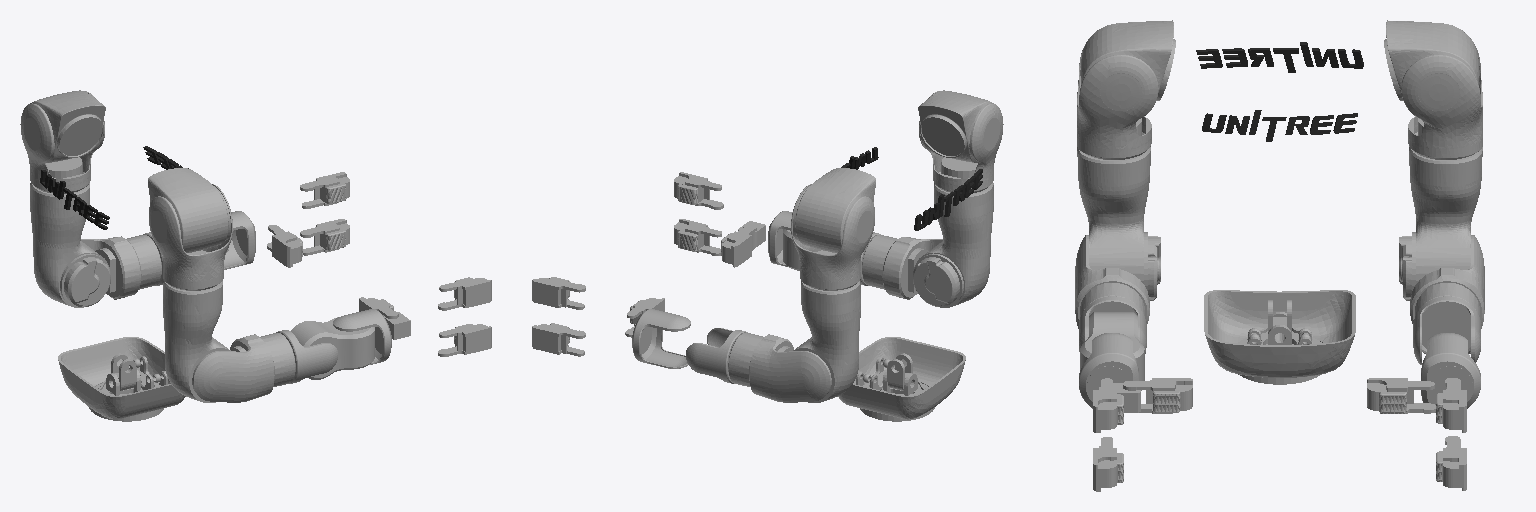
--- What the picture shows (computed from the rendered views, not written in the file) ---
The picture shows the robot from 3 angles, left to right: view 1: azimuth 30°, elevation 25°; view 2: azimuth 150°, elevation 25°; view 3: azimuth 270°, elevation 25°; orthographic projection.
Robot: g1_29dof_with_hand — 41 links, 40 joints (31 revolute, 9 fixed); root link pelvis; default pose: all joints at 0.
Links seen in each view (by area): view 1: left_shoulder_yaw_link, waist_support_link, right_elbow_link, right_shoulder_yaw_link, right_shoulder_pitch_link, right_shoulder_roll_link, left_shoulder_pitch_link, left_elbow_link, left_shoulder_roll_link, right_wrist_pitch_link, right_wrist_roll_link, logo_link (+9 smaller); view 2: right_shoulder_yaw_link, waist_support_link, left_elbow_link, left_shoulder_yaw_link, left_shoulder_pitch_link, left_shoulder_roll_link, right_shoulder_pitch_link, right_shoulder_roll_link, right_elbow_link, left_wrist_yaw_link, left_wrist_roll_link, logo_link (+9 smaller); view 3: waist_support_link, left_shoulder_yaw_link, right_shoulder_yaw_link, left_shoulder_roll_link, right_shoulder_roll_link, logo_link, left_shoulder_pitch_link, right_shoulder_pitch_link, left_wrist_yaw_link, left_wrist_roll_link, left_elbow_link, right_elbow_link (+10 smaller).
Boxes of the visible links, x1,y1,x2,y2 form: left_shoulder_yaw_link: [30, 183, 110, 307]; waist_support_link: [58, 337, 185, 418]; right_elbow_link: [192, 333, 295, 402]; right_shoulder_yaw_link: [163, 281, 230, 402]; right_shoulder_pitch_link: [148, 168, 228, 252]; right_shoulder_roll_link: [149, 184, 232, 290]; left_shoulder_pitch_link: [30, 90, 105, 162]; left_elbow_link: [81, 235, 161, 299]; left_shoulder_roll_link: [20, 91, 104, 193]; right_wrist_pitch_link: [291, 317, 374, 379]; right_wrist_roll_link: [276, 330, 337, 383]; logo_link: [40, 146, 188, 229]; right_shoulder_yaw_link: [913, 183, 993, 307]; waist_support_link: [838, 337, 965, 419]; left_elbow_link: [728, 333, 831, 402]; left_shoulder_yaw_link: [793, 281, 860, 402]; left_shoulder_pitch_link: [795, 168, 875, 252]; left_shoulder_roll_link: [791, 184, 874, 290]; right_shoulder_pitch_link: [918, 90, 993, 162]; right_shoulder_roll_link: [919, 91, 1003, 192]; right_elbow_link: [862, 235, 942, 299]; left_wrist_yaw_link: [632, 309, 690, 368]; left_wrist_roll_link: [686, 328, 747, 383]; logo_link: [841, 147, 982, 230]; waist_support_link: [1204, 290, 1355, 377]; left_shoulder_yaw_link: [1399, 147, 1482, 300]; right_shoulder_yaw_link: [1077, 147, 1160, 300]; left_shoulder_roll_link: [1401, 23, 1482, 159]; right_shoulder_roll_link: [1077, 23, 1158, 159]; logo_link: [1196, 42, 1363, 141]; left_shoulder_pitch_link: [1384, 20, 1479, 115]; right_shoulder_pitch_link: [1080, 20, 1175, 115]; left_wrist_yaw_link: [1421, 333, 1480, 412]; left_wrist_roll_link: [1413, 296, 1480, 364]; left_elbow_link: [1410, 235, 1484, 328]; right_elbow_link: [1075, 235, 1149, 328].
Size in the robot's own frame: 0.4464 by 0.3632 by 0.3314 metres.
24 mesh visuals loaded from 38 distinct referenced files (24 OBJ); not drawn: 14 (reference not matched to a file when rendering).

URDF robot description (g1_29dof_with_hand):
<robot name="g1_29dof_with_hand">
  <mujoco>
    <compiler meshdir="meshes" discardvisual="false"/>
  </mujoco>

  <!-- [CAUTION] uncomment when convert to mujoco -->
  <!-- <link name="world"></link>
  <joint name="floating_base_joint" type="floating">
    <parent link="world"/>
    <child link="pelvis"/>
  </joint> -->

  <link name="pelvis">
    <inertial>
      <origin xyz="0 0 -0.07605" rpy="0 0 0"/>
      <mass value="3.813"/>
      <inertia ixx="0.010549" ixy="0" ixz="2.1E-06" iyy="0.0093089" iyz="0" izz="0.0079184"/>
    </inertial>
    <visual>
      <origin xyz="0 0 0" rpy="0 0 0"/>
      <geometry>
        <mesh filename="meshes/pelvis.obj"/>
      </geometry>
      <material name="dark">
        <color rgba="0.2 0.2 0.2 1"/>
      </material>
    </visual>
  </link>
  <link name="pelvis_contour_link">
    <inertial>
      <origin xyz="0 0 0" rpy="0 0 0"/>
      <mass value="0.001"/>
      <inertia ixx="1e-7" ixy="0" ixz="0" iyy="1e-7" iyz="0" izz="1e-7"/>
    </inertial>
    <visual>
      <origin xyz="0 0 0" rpy="0 0 0"/>
      <geometry>
        <mesh filename="meshes/pelvis_contour_link.obj"/>
      </geometry>
      <material name="white">
        <color rgba="0.7 0.7 0.7 1"/>
      </material>
    </visual>
    <collision>
      <origin xyz="0 0 0" rpy="0 0 0"/>
      <geometry>
        <mesh filename="meshes/pelvis_contour_link.obj"/>
      </geometry>
    </collision>
  </link>
  <joint name="pelvis_contour_joint" type="fixed">
    <parent link="pelvis"/>
    <child link="pelvis_contour_link"/>
  </joint>

  <!-- Legs -->
  <!-- <link name="left_hip_pitch_link">
    <inertial>
      <origin xyz="0.002741 0.047791 -0.02606" rpy="0 0 0"/>
      <mass value="1.35"/>
      <inertia ixx="0.001811" ixy="3.68E-05" ixz="-3.44E-05" iyy="0.0014193" iyz="0.000171" izz="0.0012812"/>
    </inertial>
    <visual>
      <origin xyz="0 0 0" rpy="0 0 0"/>
      <geometry>
        <mesh filename="meshes/left_hip_pitch_link.obj"/>
      </geometry>
      <material name="dark">
        <color rgba="0.2 0.2 0.2 1"/>
      </material>
    </visual>
    <collision>
      <origin xyz="0 0 0" rpy="0 0 0"/>
      <geometry>
        <mesh filename="meshes/left_hip_pitch_link.obj"/>
      </geometry>
    </collision>
  </link>
  <joint name="left_hip_pitch_joint" type="revolute">
    <origin xyz="0 0.064452 -0.1027" rpy="0 0 0"/>
    <parent link="pelvis"/>
    <child link="left_hip_pitch_link"/>
    <axis xyz="0 1 0"/>
    <limit lower="-2.5307" upper="2.8798" effort="88" velocity="32"/>
  </joint>
  <link name="left_hip_roll_link">
    <inertial>
      <origin xyz="0.029812 -0.001045 -0.087934" rpy="0 0 0"/>
      <mass value="1.52"/>
      <inertia ixx="0.0023773" ixy="-3.8E-06" ixz="-0.0003908" iyy="0.0024123" iyz="1.84E-05" izz="0.0016595"/>
    </inertial>
    <visual>
      <origin xyz="0 0 0" rpy="0 0 0"/>
      <geometry>
        <mesh filename="meshes/left_hip_roll_link.obj"/>
      </geometry>
      <material name="white">
        <color rgba="0.7 0.7 0.7 1"/>
      </material>
    </visual>
    <collision>
      <origin xyz="0 0 0" rpy="0 0 0"/>
      <geometry>
        <mesh filename="meshes/left_hip_roll_link.obj"/>
      </geometry>
    </collision>
  </link>
  <joint name="left_hip_roll_joint" type="revolute">
    <origin xyz="0 0.052 -0.030465" rpy="0 -0.1749 0"/>
    <parent link="left_hip_pitch_link"/>
    <child link="left_hip_roll_link"/>
    <axis xyz="1 0 0"/>
    <limit lower="-0.5236" upper="2.9671" effort="88" velocity="32"/>
  </joint>
  <link name="left_hip_yaw_link">
    <inertial>
      <origin xyz="-0.057709 -0.010981 -0.15078" rpy="0 0 0"/>
      <mass value="1.702"/>
      <inertia ixx="0.0057774" ixy="-0.0005411" ixz="-0.0023948" iyy="0.0076124" iyz="-0.0007072" izz="0.003149"/>
    </inertial>
    <visual>
      <origin xyz="0 0 0" rpy="0 0 0"/>
      <geometry>
        <mesh filename="meshes/left_hip_yaw_link.obj"/>
      </geometry>
      <material name="white">
        <color rgba="0.7 0.7 0.7 1"/>
      </material>
    </visual>
    <collision>
      <origin xyz="0 0 0" rpy="0 0 0"/>
      <geometry>
        <mesh filename="meshes/left_hip_yaw_link.obj"/>
      </geometry>
    </collision>
  </link>
  <joint name="left_hip_yaw_joint" type="revolute">
    <origin xyz="0.025001 0 -0.12412" rpy="0 0 0"/>
    <parent link="left_hip_roll_link"/>
    <child link="left_hip_yaw_link"/>
    <axis xyz="0 0 1"/>
    <limit lower="-2.7576" upper="2.7576" effort="88" velocity="32"/>
  </joint>
  <link name="left_knee_link">
    <inertial>
      <origin xyz="0.005457 0.003964 -0.12074" rpy="0 0 0"/>
      <mass value="1.932"/>
      <inertia ixx="0.011329" ixy="4.82E-05" ixz="-4.49E-05" iyy="0.011277" iyz="-0.0007146" izz="0.0015168"/>
    </inertial>
    <visual>
      <origin xyz="0 0 0" rpy="0 0 0"/>
      <geometry>
        <mesh filename="meshes/left_knee_link.obj"/>
      </geometry>
      <material name="white">
        <color rgba="0.7 0.7 0.7 1"/>
      </material>
    </visual>
    <collision>
      <origin xyz="0 0 0" rpy="0 0 0"/>
      <geometry>
        <mesh filename="meshes/left_knee_link.obj"/>
      </geometry>
    </collision>
  </link>
  <joint name="left_knee_joint" type="revolute">
    <origin xyz="-0.078273 0.0021489 -0.17734" rpy="0 0.1749 0"/>
    <parent link="left_hip_yaw_link"/>
    <child link="left_knee_link"/>
    <axis xyz="0 1 0"/>
    <limit lower="-0.087267" upper="2.8798" effort="139" velocity="20"/>
  </joint>
  <link name="left_ankle_pitch_link">
    <inertial>
      <origin xyz="-0.007269 0 0.011137" rpy="0 0 0"/>
      <mass value="0.074"/>
      <inertia ixx="8.4E-06" ixy="0" ixz="-2.9E-06" iyy="1.89E-05" iyz="0" izz="1.26E-05"/>
    </inertial>
    <visual>
      <origin xyz="0 0 0" rpy="0 0 0"/>
      <geometry>
        <mesh filename="meshes/left_ankle_pitch_link.obj"/>
      </geometry>
      <material name="white">
        <color rgba="0.7 0.7 0.7 1"/>
      </material>
    </visual>
    <collision>
      <origin xyz="0 0 0" rpy="0 0 0"/>
      <geometry>
        <mesh filename="meshes/left_ankle_pitch_link.obj"/>
      </geometry>
    </collision>
  </link>
  <joint name="left_ankle_pitch_joint" type="revolute">
    <origin xyz="0 -9.4445E-05 -0.30001" rpy="0 0 0"/>
    <parent link="left_knee_link"/>
    <child link="left_ankle_pitch_link"/>
    <axis xyz="0 1 0"/>
    <limit lower="-0.87267" upper="0.5236" effort="50" velocity="37"/>
  </joint>
  <link name="left_ankle_roll_link">
    <inertial>
      <origin xyz="0.026505 0 -0.016425" rpy="0 0 0"/>
      <mass value="0.608"/>
      <inertia ixx="0.0002231" ixy="2E-07" ixz="8.91E-05" iyy="0.0016161" iyz="-1E-07" izz="0.0016667"/>
    </inertial>
    <visual>
      <origin xyz="0 0 0" rpy="0 0 0"/>
      <geometry>
        <mesh filename="meshes/left_ankle_roll_link.obj"/>
      </geometry>
      <material name="dark">
        <color rgba="0.2 0.2 0.2 1"/>
      </material>
    </visual>
    <collision>
      <origin xyz="-0.05 0.025 -0.03" rpy="0 0 0"/>
      <geometry>
        <sphere radius="0.005"/>
      </geometry>
    </collision>
    <collision>
      <origin xyz="-0.05 -0.025 -0.03" rpy="0 0 0"/>
      <geometry>
        <sphere radius="0.005"/>
      </geometry>
    </collision>
    <collision>
      <origin xyz="0.12 0.03 -0.03" rpy="0 0 0"/>
      <geometry>
        <sphere radius="0.005"/>
      </geometry>
    </collision>
    <collision>
      <origin xyz="0.12 -0.03 -0.03" rpy="0 0 0"/>
      <geometry>
        <sphere radius="0.005"/>
      </geometry>
    </collision>
  </link>
  <joint name="left_ankle_roll_joint" type="revolute">
    <origin xyz="0 0 -0.017558" rpy="0 0 0"/>
    <parent link="left_ankle_pitch_link"/>
    <child link="left_ankle_roll_link"/>
    <axis xyz="1 0 0"/>
    <limit lower="-0.2618" upper="0.2618" effort="50" velocity="37"/>
  </joint>
  <link name="right_hip_pitch_link">
    <inertial>
      <origin xyz="0.002741 -0.047791 -0.02606" rpy="0 0 0"/>
      <mass value="1.35"/>
      <inertia ixx="0.001811" ixy="-3.68E-05" ixz="-3.44E-05" iyy="0.0014193" iyz="-0.000171" izz="0.0012812"/>
    </inertial>
    <visual>
      <origin xyz="0 0 0" rpy="0 0 0"/>
      <geometry>
        <mesh filename="meshes/right_hip_pitch_link.obj"/>
      </geometry>
      <material name="dark">
        <color rgba="0.2 0.2 0.2 1"/>
      </material>
    </visual>
    <collision>
      <origin xyz="0 0 0" rpy="0 0 0"/>
      <geometry>
        <mesh filename="meshes/right_hip_pitch_link.obj"/>
      </geometry>
    </collision>
  </link>
  <joint name="right_hip_pitch_joint" type="revolute">
    <origin xyz="0 -0.064452 -0.1027" rpy="0 0 0"/>
    <parent link="pelvis"/>
    <child link="right_hip_pitch_link"/>
    <axis xyz="0 1 0"/>
    <limit lower="-2.5307" upper="2.8798" effort="88" velocity="32"/>
  </joint>
  <link name="right_hip_roll_link">
    <inertial>
      <origin xyz="0.029812 0.001045 -0.087934" rpy="0 0 0"/>
      <mass value="1.52"/>
      <inertia ixx="0.0023773" ixy="3.8E-06" ixz="-0.0003908" iyy="0.0024123" iyz="-1.84E-05" izz="0.0016595"/>
    </inertial>
    <visual>
      <origin xyz="0 0 0" rpy="0 0 0"/>
      <geometry>
        <mesh filename="meshes/right_hip_roll_link.obj"/>
      </geometry>
      <material name="white">
        <color rgba="0.7 0.7 0.7 1"/>
      </material>
    </visual>
    <collision>
      <origin xyz="0 0 0" rpy="0 0 0"/>
      <geometry>
        <mesh filename="meshes/right_hip_roll_link.obj"/>
      </geometry>
    </collision>
  </link>
  <joint name="right_hip_roll_joint" type="revolute">
    <origin xyz="0 -0.052 -0.030465" rpy="0 -0.1749 0"/>
    <parent link="right_hip_pitch_link"/>
    <child link="right_hip_roll_link"/>
    <axis xyz="1 0 0"/>
    <limit lower="-2.9671" upper="0.5236" effort="88" velocity="32"/>
  </joint>
  <link name="right_hip_yaw_link">
    <inertial>
      <origin xyz="-0.057709 0.010981 -0.15078" rpy="0 0 0"/>
      <mass value="1.702"/>
      <inertia ixx="0.0057774" ixy="0.0005411" ixz="-0.0023948" iyy="0.0076124" iyz="0.0007072" izz="0.003149"/>
    </inertial>
    <visual>
      <origin xyz="0 0 0" rpy="0 0 0"/>
      <geometry>
        <mesh filename="meshes/right_hip_yaw_link.obj"/>
      </geometry>
      <material name="white">
        <color rgba="0.7 0.7 0.7 1"/>
      </material>
    </visual>
    <collision>
      <origin xyz="0 0 0" rpy="0 0 0"/>
      <geometry>
        <mesh filename="meshes/right_hip_yaw_link.obj"/>
      </geometry>
    </collision>
  </link>
  <joint name="right_hip_yaw_joint" type="revolute">
    <origin xyz="0.025001 0 -0.12412" rpy="0 0 0"/>
    <parent link="right_hip_roll_link"/>
    <child link="right_hip_yaw_link"/>
    <axis xyz="0 0 1"/>
    <limit lower="-2.7576" upper="2.7576" effort="88" velocity="32"/>
  </joint>
  <link name="right_knee_link">
    <inertial>
      <origin xyz="0.005457 -0.003964 -0.12074" rpy="0 0 0"/>
      <mass value="1.932"/>
      <inertia ixx="0.011329" ixy="-4.82E-05" ixz="4.49E-05" iyy="0.011277" iyz="0.0007146" izz="0.0015168"/>
    </inertial>
    <visual>
      <origin xyz="0 0 0" rpy="0 0 0"/>
      <geometry>
        <mesh filename="meshes/right_knee_link.obj"/>
      </geometry>
      <material name="white">
        <color rgba="0.7 0.7 0.7 1"/>
      </material>
    </visual>
    <collision>
      <origin xyz="0 0 0" rpy="0 0 0"/>
      <geometry>
        <mesh filename="meshes/right_knee_link.obj"/>
      </geometry>
    </collision>
  </link>
  <joint name="right_knee_joint" type="revolute">
    <origin xyz="-0.078273 -0.0021489 -0.17734" rpy="0 0.1749 0"/>
    <parent link="right_hip_yaw_link"/>
    <child link="right_knee_link"/>
    <axis xyz="0 1 0"/>
    <limit lower="-0.087267" upper="2.8798" effort="139" velocity="20"/>
  </joint>
  <link name="right_ankle_pitch_link">
    <inertial>
      <origin xyz="-0.007269 0 0.011137" rpy="0 0 0"/>
      <mass value="0.074"/>
      <inertia ixx="8.4E-06" ixy="0" ixz="-2.9E-06" iyy="1.89E-05" iyz="0" izz="1.26E-05"/>
    </inertial>
    <visual>
      <origin xyz="0 0 0" rpy="0 0 0"/>
      <geometry>
        <mesh filename="meshes/right_ankle_pitch_link.obj"/>
      </geometry>
      <material name="white">
        <color rgba="0.7 0.7 0.7 1"/>
      </material>
    </visual>
    <collision>
      <origin xyz="0 0 0" rpy="0 0 0"/>
      <geometry>
        <mesh filename="meshes/right_ankle_pitch_link.obj"/>
      </geometry>
    </collision>
  </link>
  <joint name="right_ankle_pitch_joint" type="revolute">
    <origin xyz="0 9.4445E-05 -0.30001" rpy="0 0 0"/>
    <parent link="right_knee_link"/>
    <child link="right_ankle_pitch_link"/>
    <axis xyz="0 1 0"/>
    <limit lower="-0.87267" upper="0.5236" effort="50" velocity="37"/>
  </joint>
  <link name="right_ankle_roll_link">
    <inertial>
      <origin xyz="0.026505 0 -0.016425" rpy="0 0 0"/>
      <mass value="0.608"/>
      <inertia ixx="0.0002231" ixy="-2E-07" ixz="8.91E-05" iyy="0.0016161" iyz="1E-07" izz="0.0016667"/>
    </inertial>
    <visual>
      <origin xyz="0 0 0" rpy="0 0 0"/>
      <geometry>
        <mesh filename="meshes/right_ankle_roll_link.obj"/>
      </geometry>
      <material name="dark">
        <color rgba="0.2 0.2 0.2 1"/>
      </material>
    </visual>
    <collision>
      <origin xyz="-0.05 0.025 -0.03" rpy="0 0 0"/>
      <geometry>
        <sphere radius="0.005"/>
      </geometry>
    </collision>
    <collision>
      <origin xyz="-0.05 -0.025 -0.03" rpy="0 0 0"/>
      <geometry>
        <sphere radius="0.005"/>
      </geometry>
    </collision>
    <collision>
      <origin xyz="0.12 0.03 -0.03" rpy="0 0 0"/>
      <geometry>
        <sphere radius="0.005"/>
      </geometry>
    </collision>
    <collision>
      <origin xyz="0.12 -0.03 -0.03" rpy="0 0 0"/>
      <geometry>
        <sphere radius="0.005"/>
      </geometry>
    </collision>
  </link>
  <joint name="right_ankle_roll_joint" type="revolute">
    <origin xyz="0 0 -0.017558" rpy="0 0 0"/>
    <parent link="right_ankle_pitch_link"/>
    <child link="right_ankle_roll_link"/>
    <axis xyz="1 0 0"/>
    <limit lower="-0.2618" upper="0.2618" effort="50" velocity="37"/>
  </joint> -->

  <!-- Torso (change joint to fixed) -->
  <link name="waist_yaw_link">
    <inertial>
      <origin xyz="0.003964 0 0.018769" rpy="0 0 0"/>
      <mass value="0.244"/>
      <inertia ixx="9.9587E-05" ixy="-1.833E-06" ixz="-1.2617E-05" iyy="0.00012411" iyz="-1.18E-07" izz="0.00015586"/>
    </inertial>
    <visual>
      <origin xyz="0 0 0" rpy="0 0 0"/>
      <geometry>
        <mesh filename="meshes/waist_yaw_link.obj"/>
      </geometry>
      <material name="white">
        <color rgba="0.7 0.7 0.7 1"/>
      </material>
    </visual>
  </link>
  <joint name="waist_yaw_joint" type="revolute">
    <origin xyz="0 0 0" rpy="0 0 0"/>
    <parent link="pelvis"/>
    <child link="waist_yaw_link"/>
    <axis xyz="0 0 1"/>
    <limit lower="-2.618" upper="2.618" effort="88" velocity="32"/>
  </joint>
  <link name="waist_roll_link">
    <inertial>
      <origin xyz="0 -0.000236 0.010111" rpy="0 0 0"/>
      <mass value="0.047"/>
      <inertia ixx="7.515E-06" ixy="0" ixz="0" iyy="6.398E-06" iyz="9.9E-08" izz="3.988E-06"/>
    </inertial>
    <visual>
      <origin xyz="0 0 0" rpy="0 0 0"/>
      <geometry>
        <mesh filename="meshes/waist_roll_link.obj"/>
      </geometry>
      <material name="white">
        <color rgba="0.7 0.7 0.7 1"/>
      </material>
    </visual>
  </link>
  <joint name="waist_roll_joint" type="revolute">
    <origin xyz="-0.0039635 0 0.035" rpy="0 0 0"/>
    <parent link="waist_yaw_link"/>
    <child link="waist_roll_link"/>
    <axis xyz="1 0 0"/>
    <limit lower="-0.52" upper="0.52" effort="50" velocity="37"/>
  </joint>
  <link name="torso_link">
    <inertial>
      <origin xyz="0.002601 0.000257 0.153719" rpy="0 0 0"/>
      <mass value="8.562"/>
      <inertia ixx="0.065674966" ixy="-8.597E-05" ixz="-0.001737252" iyy="0.053535188" iyz="8.6899E-05" izz="0.030808125"/>
    </inertial>
    <visual>
      <origin xyz="0 0 0" rpy="0 0 0"/>
      <geometry>
        <mesh filename="meshes/torso_link.obj"/>
      </geometry>
      <material name="white">
        <color rgba="0.7 0.7 0.7 1"/>
      </material>
    </visual>
    <collision>
      <origin xyz="0 0 0" rpy="0 0 0"/>
      <geometry>
        <mesh filename="meshes/torso_link.obj"/>
      </geometry>
    </collision>
  </link>
  <joint name="waist_pitch_joint" type="revolute">
    <origin xyz="0 0 0.019" rpy="0 0 0"/>
    <parent link="waist_roll_link"/>
    <child link="torso_link"/>
    <axis xyz="0 1 0"/>
    <limit lower="-0.52" upper="0.52" effort="50" velocity="37"/>
  </joint>

  <!-- LOGO -->
  <joint name="logo_joint" type="fixed">
    <origin xyz="0.0039635 0 -0.054" rpy="0 0 0"/>
    <parent link="torso_link"/>
    <child link="logo_link"/>
  </joint>
  <link name="logo_link">
    <inertial>
      <origin xyz="0 0 0" rpy="0 0 0"/>
      <mass value="0.001"/>
      <inertia ixx="1e-7" ixy="0" ixz="0" iyy="1e-7" iyz="0" izz="1e-7"/>
    </inertial>
    <visual>
      <origin xyz="0 0 0" rpy="0 0 0"/>
      <geometry>
        <mesh filename="meshes/logo_link.obj"/>
      </geometry>
      <material name="dark">
        <color rgba="0.2 0.2 0.2 1"/>
      </material>
    </visual>
    <collision>
      <origin xyz="0 0 0" rpy="0 0 0"/>
      <geometry>
        <mesh filename="meshes/logo_link.obj"/>
      </geometry>
    </collision>
  </link>

  <!-- Head -->
  <link name="head_link">
    <inertial>
      <origin xyz="0.005267 0.000299 0.449869" rpy="0 0 0"/>
      <mass value="1.036"/>
      <inertia ixx="0.004085051" ixy="-2.543E-06" ixz="-6.9455E-05" iyy="0.004185212" iyz="-3.726E-06" izz="0.001807911"/>
    </inertial>
    <visual>
      <origin xyz="0 0 0" rpy="0 0 0"/>
      <geometry>
        <mesh filename="meshes/head_link.obj"/>
      </geometry>
      <material name="dark">
        <color rgba="0.2 0.2 0.2 1"/>
      </material>
    </visual>
    <collision>
      <origin xyz="0 0 0" rpy="0 0 0"/>
      <geometry>
        <mesh filename="meshes/head_link.obj"/>
      </geometry>
    </collision>
  </link>
  <joint name="head_joint" type="fixed">
    <origin xyz="0.0039635 0 -0.054" rpy="0 0 0"/>
    <parent link="torso_link"/>
    <child link="head_link"/>
  </joint>

  <!-- Waist Support -->
  <link name="waist_support_link">
    <inertial>
      <origin xyz="0 0 0" rpy="0 0 0"/>
      <mass value="0.001"/>
      <inertia ixx="1e-7" ixy="0" ixz="0" iyy="1e-7" iyz="0" izz="1e-7"/>
    </inertial>
    <visual>
      <origin xyz="0 0 0" rpy="0 0 0"/>
      <geometry>
        <mesh filename="meshes/waist_support_link.obj"/>
      </geometry>
      <material name="white">
        <color rgba="0.7 0.7 0.7 1"/>
      </material>
    </visual>
    <collision>
      <origin xyz="0 0 0" rpy="0 0 0"/>
      <geometry>
        <mesh filename="meshes/waist_support_link.obj"/>
      </geometry>
    </collision>
  </link>
  <joint name="waist_support_joint" type="fixed">
    <origin xyz="0.0039635 0 -0.054" rpy="0 0 0"/>
    <parent link="torso_link"/>
    <child link="waist_support_link"/>
  </joint>

  <!-- IMU -->
  <link name="imu_link"></link>
  <joint name="imu_joint" type="fixed">
    <origin xyz="-0.03959 -0.00224 0.13792" rpy="0 0 0"/>
    <parent link="torso_link"/>
    <child link="imu_link"/>
  </joint>

  <!-- d435 -->
  <link name="d435_link"></link>
  <joint name="d435_joint" type="fixed">
    <origin xyz="0.0576235 0.01753 0.41987" rpy="0 0.8307767239493009 0"/>
    <parent link="torso_link"/>
    <child link="d435_link"/>
  </joint>

  <!-- mid360 -->
  <link name="mid360_link"></link>
  <joint name="mid360_joint" type="fixed">
    <origin xyz="0.0002835 0.00003 0.40618" rpy="0 0.04014257279586953 0"/>
    <parent link="torso_link"/>
    <child link="mid360_link"/>
  </joint>

  <!-- Arm -->
  <link name="left_shoulder_pitch_link">
    <inertial>
      <origin xyz="0 0.035892 -0.011628" rpy="0 0 0"/>
      <mass value="0.718"/>
      <inertia ixx="0.0004291" ixy="-9.2E-06" ixz="6.4E-06" iyy="0.000453" iyz="2.26E-05" izz="0.000423"/>
    </inertial>
    <visual>
      <origin xyz="0 0 0" rpy="0 0 0"/>
      <geometry>
        <mesh filename="meshes/left_shoulder_pitch_link.obj"/>
      </geometry>
      <material name="white">
        <color rgba="0.7 0.7 0.7 1"/>
      </material>
    </visual>
    <collision>
      <origin xyz="0 0.04 -0.01" rpy="0 1.5707963267948966 0"/>
      <geometry>
        <cylinder radius="0.03" length="0.05"/>
      </geometry>
    </collision>
  </link>
  <joint name="left_shoulder_pitch_joint" type="revolute">
    <origin xyz="0.0039563 0.10022 0.23778" rpy="0.27931 5.4949E-05 -0.00019159"/>
    <parent link="torso_link"/>
    <child link="left_shoulder_pitch_link"/>
    <axis xyz="0 1 0"/>
    <limit lower="-3.0892" upper="2.6704" effort="25" velocity="37"/>
  </joint>
  <link name="left_shoulder_roll_link">
    <inertial>
      <origin xyz="-0.000227 0.00727 -0.063243" rpy="0 0 0"/>
      <mass value="0.643"/>
      <inertia ixx="0.0006177" ixy="-1E-06" ixz="8.7E-06" iyy="0.0006912" iyz="-5.3E-06" izz="0.0003894"/>
    </inertial>
    <visual>
      <origin xyz="0 0 0" rpy="0 0 0"/>
      <geometry>
        <mesh filename="meshes/left_shoulder_roll_link.obj"/>
      </geometry>
      <material name="white">
        <color rgba="0.7 0.7 0.7 1"/>
      </material>
    </visual>
    <collision>
      <origin xyz="-0.004 0.006 -0.053" rpy="0 0 0"/>
      <geometry>
        <cylinder radius="0.03" length="0.03"/>
      </geometry>
    </collision>
  </link>
  <joint name="left_shoulder_roll_joint" type="revolute">
    <origin xyz="0 0.038 -0.013831" rpy="-0.27925 0 0"/>
    <parent link="left_shoulder_pitch_link"/>
    <child link="left_shoulder_roll_link"/>
    <axis xyz="1 0 0"/>
    <limit lower="-1.5882" upper="2.2515" effort="25" velocity="37"/>
  </joint>
  <link name="left_shoulder_yaw_link">
    <inertial>
      <origin xyz="0.010773 -0.002949 -0.072009" rpy="0 0 0"/>
      <mass value="0.734"/>
      <inertia ixx="0.0009988" ixy="7.9E-06" ixz="0.0001412" iyy="0.0010605" iyz="-2.86E-05" izz="0.0004354"/>
    </inertial>
    <visual>
      <origin xyz="0 0 0" rpy="0 0 0"/>
      <geometry>
        <mesh filename="meshes/left_shoulder_yaw_link.obj"/>
      </geometry>
      <material name="white">
        <color rgba="0.7 0.7 0.7 1"/>
      </material>
    </visual>
    <collision>
      <origin xyz="0 0 0" rpy="0 0 0"/>
      <geometry>
        <mesh filename="meshes/left_shoulder_yaw_link.obj"/>
      </geometry>
    </collision>
  </link>
  <joint name="left_shoulder_yaw_joint" type="revolute">
    <origin xyz="0 0.00624 -0.1032" rpy="0 0 0"/>
    <parent link="left_shoulder_roll_link"/>
    <child link="left_shoulder_yaw_link"/>
    <axis xyz="0 0 1"/>
    <limit lower="-2.618" upper="2.618" effort="25" velocity="37"/>
  </joint>
  <link name="left_elbow_link">
    <inertial>
      <origin xyz="0.064956 0.004454 -0.010062" rpy="0 0 0"/>
      <mass value="0.6"/>
      <inertia ixx="0.0002891" ixy="6.53E-05" ixz="1.72E-05" iyy="0.0004152" iyz="-5.6E-06" izz="0.0004197"/>
    </inertial>
    <visual>
      <origin xyz="0 0 0" rpy="0 0 0"/>
      <geometry>
        <mesh filename="meshes/left_elbow_link.obj"/>
      </geometry>
      <material name="white">
        <color rgba="0.7 0.7 0.7 1"/>
      </material>
    </visual>
    <collision>
      <origin xyz="0 0 0" rpy="0 0 0"/>
      <geometry>
        <mesh filename="meshes/left_elbow_link.obj"/>
      </geometry>
    </collision>
  </link>
  <joint name="left_elbow_joint" type="revolute">
    <origin xyz="0.015783 0 -0.080518" rpy="0 0 0"/>
    <parent link="left_shoulder_yaw_link"/>
    <child link="left_elbow_link"/>
    <axis xyz="0 1 0"/>
    <limit lower="-1.0472" upper="2.0944" effort="25" velocity="37"/>
  </joint>
  <joint name="left_wrist_roll_joint" type="revolute">
    <origin xyz="0.100 0.00188791 -0.010" rpy="0 0 0"/>
    <axis xyz="1 0 0"/>
    <parent link="left_elbow_link"/>
    <child link="left_wrist_roll_link"/>
    <limit effort="25" velocity="37" lower="-1.972222054" upper="1.972222054"/>
  </joint>
  <link name="left_wrist_roll_link">
    <inertial>
      <origin xyz="0.01713944778 0.00053759094 0.00000048864" rpy="0 0 0"/>
      <mass value="0.08544498"/>
      <inertia ixx="0.00004821544023" ixy="-0.00000424511021" ixz="0.00000000510599" iyy="0.00003722899093" iyz="-0.00000000123525" izz="0.00005482106541"/>
    </inertial>
    <visual>
      <origin xyz="0 0 0" rpy="0 0 0"/>
      <geometry>
        <mesh filename="meshes/left_wrist_roll_link.obj"/>
      </geometry>
      <material name="white">
        <color rgba="0.7 0.7 0.7 1"/>
      </material>
    </visual>
    <collision>
      <origin xyz="0 0 0" rpy="0 0 0"/>
      <geometry>
        <mesh filename="meshes/left_wrist_roll_link.obj"/>
      </geometry>
    </collision>
  </link>
  <joint name="left_wrist_pitch_joint" type="revolute">
    <origin xyz="0.038 0 0" rpy="0 0 0"/>
    <axis xyz="0 1 0"/>
    <parent link="left_wrist_roll_link"/>
    <child link="left_wrist_pitch_link"/>
    <limit effort="5" velocity="22" lower="-1.614429558" upper="1.614429558"/>
  </joint>
  <link name="left_wrist_pitch_link">
    <inertial>
      <origin xyz="0.02299989837 -0.00111685314 -0.00111658096" rpy="0 0 0"/>
      <mass value="0.48404956"/>
      <inertia ixx="0.00016579646273" ixy="-0.00001231206746" ixz="0.00001231699194" iyy="0.00042954057410" iyz="0.00000081417712" izz="0.00042953697654"/>
    </inertial>
    <visual>
      <origin xyz="0 0 0" rpy="0 0 0"/>
      <geometry>
        <mesh filename="meshes/left_wrist_pitch_link.obj"/>
      </geometry>
      <material name="white">
        <color rgba="0.7 0.7 0.7 1"/>
      </material>
    </visual>
    <collision>
      <origin xyz="0 0 0" rpy="0 0 0"/>
      <geometry>
        <mesh filename="meshes/left_wrist_pitch_link.obj"/>
      </geometry>
    </collision>
  </link>
  <joint name="left_wrist_yaw_joint" type="revolute">
    <origin xyz="0.046 0 0" rpy="0 0 0"/>
    <axis xyz="0 0 1"/>
    <parent link="left_wrist_pitch_link"/>
    <child link="left_wrist_yaw_link"/>
    <limit effort="5" velocity="22" lower="-1.614429558" upper="1.614429558"/>
  </joint>
  <link name="left_wrist_yaw_link">
    <inertial>
      <origin xyz="0.02200381568 0.00049485096 0.00053861123" rpy="0 0 0"/>
      <mass value="0.08457647"/>
      <inertia ixx="0.00004929128828" ixy="-0.00000045735494" ixz="0.00000445867591" iyy="0.00005973338134" iyz="0.00000043217198" izz="0.00003928083826"/>
    </inertial>
    <visual>
      <origin xyz="0 0 0" rpy="0 0 0"/>
      <geometry>
        <mesh filename="meshes/left_wrist_yaw_link.obj"/>
      </geometry>
      <material name="white">
        <color rgba="0.7 0.7 0.7 1"/>
      </material>
    </visual>
    <collision>
      <origin xyz="0 0 0" rpy="0 0 0"/>
      <geometry>
        <mesh filename="meshes/left_wrist_yaw_link.obj"/>
      </geometry>
    </collision>
  </link>
  <joint name="left_hand_palm_joint" type="fixed">
    <origin xyz="0.0415 0.003 0" rpy="0 0 0"/>
    <parent link="left_wrist_yaw_link"/>
    <child link="left_hand_palm_link"/>
  </joint>
 
 <!-- right arm -->
  <link name="right_shoulder_pitch_link">
    <inertial>
      <origin xyz="0 -0.035892 -0.011628" rpy="0 0 0"/>
      <mass value="0.718"/>
      <inertia ixx="0.0004291" ixy="9.2E-06" ixz="6.4E-06" iyy="0.000453" iyz="-2.26E-05" izz="0.000423"/>
    </inertial>
    <visual>
      <origin xyz="0 0 0" rpy="0 0 0"/>
      <geometry>
        <mesh filename="meshes/right_shoulder_pitch_link.obj"/>
      </geometry>
      <material name="white">
        <color rgba="0.7 0.7 0.7 1"/>
      </material>
    </visual>
    <collision>
      <origin xyz="0 -0.04 -0.01" rpy="0 1.5707963267948966 0"/>
      <geometry>
        <cylinder radius="0.03" length="0.05"/>
      </geometry>
    </collision>
  </link>
  <joint name="right_shoulder_pitch_joint" type="revolute">
    <origin xyz="0.0039563 -0.10021 0.23778" rpy="-0.27931 5.4949E-05 0.00019159"/>
    <parent link="torso_link"/>
    <child link="right_shoulder_pitch_link"/>
    <axis xyz="0 1 0"/>
    <limit lower="-3.0892" upper="2.6704" effort="25" velocity="37"/>
  </joint>
  <link name="right_shoulder_roll_link">
    <inertial>
      <origin xyz="-0.000227 -0.00727 -0.063243" rpy="0 0 0"/>
      <mass value="0.643"/>
      <inertia ixx="0.0006177" ixy="1E-06" ixz="8.7E-06" iyy="0.0006912" iyz="5.3E-06" izz="0.0003894"/>
    </inertial>
    <visual>
      <origin xyz="0 0 0" rpy="0 0 0"/>
      <geometry>
        <mesh filename="meshes/right_shoulder_roll_link.obj"/>
      </geometry>
      <material name="white">
        <color rgba="0.7 0.7 0.7 1"/>
      </material>
    </visual>
    <collision>
      <origin xyz="-0.004 -0.006 -0.053" rpy="0 0 0"/>
      <geometry>
        <cylinder radius="0.03" length="0.03"/>
      </geometry>
    </collision>
  </link>
  <joint name="right_shoulder_roll_joint" type="revolute">
    <origin xyz="0 -0.038 -0.013831" rpy="0.27925 0 0"/>
    <parent link="right_shoulder_pitch_link"/>
    <child link="right_shoulder_roll_link"/>
    <axis xyz="1 0 0"/>
    <limit lower="-2.2515" upper="1.5882" effort="25" velocity="37"/>
  </joint>
  <link name="right_shoulder_yaw_link">
    <inertial>
      <origin xyz="0.010773 0.002949 -0.072009" rpy="0 0 0"/>
      <mass value="0.734"/>
      <inertia ixx="0.0009988" ixy="-7.9E-06" ixz="0.0001412" iyy="0.0010605" iyz="2.86E-05" izz="0.0004354"/>
    </inertial>
    <visual>
      <origin xyz="0 0 0" rpy="0 0 0"/>
      <geometry>
        <mesh filename="meshes/right_shoulder_yaw_link.obj"/>
      </geometry>
      <material name="white">
        <color rgba="0.7 0.7 0.7 1"/>
      </material>
    </visual>
    <collision>
      <origin xyz="0 0 0" rpy="0 0 0"/>
      <geometry>
        <mesh filename="meshes/right_shoulder_yaw_link.obj"/>
      </geometry>
    </collision>
  </link>
  <joint name="right_shoulder_yaw_joint" type="revolute">
    <origin xyz="0 -0.00624 -0.1032" rpy="0 0 0"/>
    <parent link="right_shoulder_roll_link"/>
    <child link="right_shoulder_yaw_link"/>
    <axis xyz="0 0 1"/>
    <limit lower="-2.618" upper="2.618" effort="25" velocity="37"/>
  </joint>
  <link name="right_elbow_link">
    <inertial>
      <origin xyz="0.064956 -0.004454 -0.010062" rpy="0 0 0"/>
      <mass value="0.6"/>
      <inertia ixx="0.0002891" ixy="-6.53E-05" ixz="1.72E-05" iyy="0.0004152" iyz="5.6E-06" izz="0.0004197"/>
    </inertial>
    <visual>
      <origin xyz="0 0 0" rpy="0 0 0"/>
      <geometry>
        <mesh filename="meshes/right_elbow_link.obj"/>
      </geometry>
      <material name="white">
        <color rgba="0.7 0.7 0.7 1"/>
      </material>
    </visual>
    <collision>
      <origin xyz="0 0 0" rpy="0 0 0"/>
      <geometry>
        <mesh filename="meshes/right_elbow_link.obj"/>
      </geometry>
    </collision>
  </link>
  <joint name="right_elbow_joint" type="revolute">
    <origin xyz="0.015783 0 -0.080518" rpy="0 0 0"/>
    <parent link="right_shoulder_yaw_link"/>
    <child link="right_elbow_link"/>
    <axis xyz="0 1 0"/>
    <limit lower="-1.0472" upper="2.0944" effort="25" velocity="37"/>
  </joint>
  <joint name="right_wrist_roll_joint" type="revolute">
    <origin xyz="0.100 -0.00188791 -0.010" rpy="0 0 0"/>
    <axis xyz="1 0 0"/>
    <parent link="right_elbow_link"/>
    <child link="right_wrist_roll_link"/>
    <limit effort="25" velocity="37" lower="-1.972222054" upper="1.972222054"/>
  </joint>
  <link name="right_wrist_roll_link">
    <inertial>
      <origin xyz="0.01713944778 -0.00053759094 0.00000048864" rpy="0 0 0"/>
      <mass value="0.08544498"/>
      <inertia ixx="0.00004821544023" ixy="0.00000424511021" ixz="0.00000000510599" iyy="0.00003722899093" iyz="0.00000000123525" izz="0.00005482106541"/>
    </inertial>
    <visual>
      <origin xyz="0 0 0" rpy="0 0 0"/>
      <geometry>
        <mesh filename="meshes/right_wrist_roll_link.obj"/>
      </geometry>
      <material name="white">
        <color rgba="0.7 0.7 0.7 1"/>
      </material>
    </visual>
    <collision>
      <origin xyz="0 0 0" rpy="0 0 0"/>
      <geometry>
        <mesh filename="meshes/right_wrist_roll_link.obj"/>
      </geometry>
    </collision>
  </link>
  <joint name="right_wrist_pitch_joint" type="revolute">
    <origin xyz="0.038 0 0" rpy="0 0 0"/>
    <axis xyz="0 1 0"/>
    <parent link="right_wrist_roll_link"/>
    <child link="right_wrist_pitch_link"/>
    <limit effort="5" velocity="22" lower="-1.614429558" upper="1.614429558"/>
  </joint>
  <link name="right_wrist_pitch_link">
    <inertial>
      <origin xyz="0.02299989837 0.00111685314 -0.00111658096" rpy="0 0 0"/>
      <mass value="0.48404956"/>
      <inertia ixx="0.00016579646273" ixy="0.00001231206746" ixz="0.00001231699194" iyy="0.00042954057410" iyz="-0.00000081417712" izz="0.00042953697654"/>
    </inertial>
    <visual>
      <origin xyz="0 0 0" rpy="0 0 0"/>
      <geometry>
        <mesh filename="meshes/right_wrist_pitch_link.obj"/>
      </geometry>
      <material name="white">
        <color rgba="0.7 0.7 0.7 1"/>
      </material>
    </visual>
    <collision>
      <origin xyz="0 0 0" rpy="0 0 0"/>
      <geometry>
        <mesh filename="meshes/right_wrist_pitch_link.obj"/>
      </geometry>
    </collision>
  </link>
  <joint name="right_wrist_yaw_joint" type="revolute">
    <origin xyz="0.046 0 0" rpy="0 0 0"/>
    <axis xyz="0 0 1"/>
    <parent link="right_wrist_pitch_link"/>
    <child link="right_wrist_yaw_link"/>
    <limit effort="5" velocity="22" lower="-1.614429558" upper="1.614429558"/>
  </joint>
  <link name="right_wrist_yaw_link">
    <inertial>
      <origin xyz="0.02200381568 -0.00049485096 0.00053861123" rpy="0 0 0"/>
      <mass value="0.08457647"/>
      <inertia ixx="0.00004929128828" ixy="0.00000045735494" ixz="0.00000445867591" iyy="0.00005973338134" iyz="-0.00000043217198" izz="0.00003928083826"/>
    </inertial>
    <visual>
      <origin xyz="0 0 0" rpy="0 0 0"/>
      <geometry>
        <mesh filename="meshes/right_wrist_yaw_link.obj"/>
      </geometry>
      <material name="white">
        <color rgba="0.7 0.7 0.7 1"/>
      </material>
    </visual>
    <collision>
      <origin xyz="0 0 0" rpy="0 0 0"/>
      <geometry>
        <mesh filename="meshes/right_wrist_yaw_link.obj"/>
      </geometry>
    </collision>
  </link>
  <joint name="right_hand_palm_joint" type="fixed">
    <origin xyz="0.0415 -0.003 0" rpy="0 0 0"/>
    <parent link="right_wrist_yaw_link"/>
    <child link="right_hand_palm_link"/>
  </joint>
  <!-- left hand -->
  <link name="left_hand_palm_link">
    <inertial>
      <origin xyz="0.06214634836 -0.00050869656 -0.00058171093" rpy="0 0 0"/>
      <mass value="0.37283854"/>
      <inertia ixx="0.00027535181027" ixy="-0.00001595519465" ixz="-0.00000242161890" iyy="0.00053951827219" iyz="-0.00000042279435" izz="0.00039623390907"/>
    </inertial>
    <visual>
      <origin xyz="0 0 0" rpy="0 0 0"/>
      <geometry>
        <mesh filename="meshes/left_hand_palm_link.obj"/>
      </geometry>
      <material name="white">
        <color rgba="0.7 0.7 0.7 1"/>
      </material>
    </visual>
    <collision>
      <origin xyz="0 0 0" rpy="0 0 0"/>
      <geometry>
        <mesh filename="meshes/left_hand_palm_link.obj"/>
      </geometry>
    </collision>
  </link>
  <joint name="left_hand_thumb_0_joint" type="revolute">
    <origin xyz="0.0255 0 0" rpy="0 0 0"/>
    <axis xyz="0 1 0"/>
    <parent link="left_hand_palm_link"/>
    <child link="left_hand_thumb_0_link"/>
    <limit effort="2.45" velocity="6.857" lower="-1.04719755" upper="1.04719755"/>
  </joint>
  <link name="left_hand_thumb_0_link">
    <inertial>
      <origin xyz="-0.00088424580 -0.00863407079 0.00094429336" rpy="0 0 0"/>
      <mass value="0.08623657"/>
      <inertia ixx="0.00001602919238" ixy="0.00000010683177" ixz="0.00000016728875" iyy="0.00001451795012" iyz="-0.00000051094752" izz="0.00001637877663"/>
    </inertial>
    <visual>
      <origin xyz="0 0 0" rpy="0 0 0"/>
      <geometry>
        <mesh filename="meshes/left_hand_thumb_0_link.obj"/>
      </geometry>
      <material name="white">
        <color rgba="0.7 0.7 0.7 1"/>
      </material>
    </visual>
    <collision>
      <origin xyz="0 0 0" rpy="0 0 0"/>
      <geometry>
        <mesh filename="meshes/left_hand_thumb_0_link.obj"/>
      </geometry>
    </collision>
  </link>
  <joint name="left_hand_thumb_1_joint" type="revolute">
    <origin xyz="-0.0025 -0.0193 0" rpy="0 0 0"/>
    <axis xyz="0 0 1"/>
    <parent link="left_hand_thumb_0_link"/>
    <child link="left_hand_thumb_1_link"/>
    <limit effort="1.4" velocity="12" lower="-0.72431163" upper="1.04719755"/>
  </joint>
  <link name="left_hand_thumb_1_link">
    <inertial>
      <origin xyz="-0.00082788768 -0.03547435774 -0.00038089960" rpy="0 0 0"/>
      <mass value="0.05885070"/>
      <inertia ixx="0.00001274699945" ixy="-0.00000050770784" ixz="0.00000016088850" iyy="0.00000601573947" iyz="-0.00000027839003" izz="0.00001234543582"/>
    </inertial>
    <visual>
      <origin xyz="0 0 0" rpy="0 0 0"/>
      <geometry>
        <mesh filename="meshes/left_hand_thumb_1_link.obj"/>
      </geometry>
      <material name="white">
        <color rgba="0.7 0.7 0.7 1"/>
      </material>
    </visual>
    <collision>
      <origin xyz="-0.001 -0.032 0" rpy="0 0 0"/>
      <geometry>
        <box size="0.02 0.03 0.02"/>
      </geometry>
    </collision>
  </link>
  <joint name="left_hand_thumb_2_joint" type="revolute">
    <origin xyz="0 -0.0458 0" rpy="0 0 0"/>
    <axis xyz="0 0 1"/>
    <parent link="left_hand_thumb_1_link"/>
    <child link="left_hand_thumb_2_link"/>
    <limit effort="1.4" velocity="12" lower="0" upper="1.74532925"/>
  </joint>
  <link name="left_hand_thumb_2_link">
    <inertial>
      <origin xyz="-0.00171735242 -0.02628192939 0.00010778879" rpy="0 0 0"/>
      <mass value="0.02030626"/>
      <inertia ixx="0.00000461267817" ixy="-0.00000003422130" ixz="-0.00000000823881" iyy="0.00000153561368" iyz="-0.00000002549885" izz="0.00000386625776"/>
    </inertial>
    <visual>
      <origin xyz="0 0 0" rpy="0 0 0"/>
      <geometry>
        <mesh filename="meshes/left_hand_thumb_2_link.obj"/>
      </geometry>
      <material name="white">
        <color rgba="0.7 0.7 0.7 1"/>
      </material>
    </visual>
    <collision>
      <origin xyz="0 0 0" rpy="0 0 0"/>
      <geometry>
        <mesh filename="meshes/left_hand_thumb_2_link.obj"/>
      </geometry>
    </collision>
  </link>
  <joint name="left_hand_middle_0_joint" type="revolute">
    <origin xyz="0.0777 0.0016 -0.0285" rpy="0 0 0"/>
    <axis xyz="0 0 1"/>
    <parent link="left_hand_palm_link"/>
    <child link="left_hand_middle_0_link"/>
    <limit effort="1.4" velocity="12" lower="-1.57079632" upper="0"/>
  </joint>
  <link name="left_hand_middle_0_link">
    <inertial>
      <origin xyz="0.03547435774 0.00082788768 0.00038089960" rpy="0 0 0"/>
      <mass value="0.05885070"/>
      <inertia ixx="0.00000601573947" ixy="-0.00000050770784" ixz="-0.00000027839003" iyy="0.00001274699945" iyz="0.00000016088850" izz="0.00001234543582"/>
    </inertial>
    <visual>
      <origin xyz="0 0 0" rpy="0 0 0"/>
      <geometry>
        <mesh filename="meshes/left_hand_middle_0_link.obj"/>
      </geometry>
      <material name="white">
        <color rgba="0.7 0.7 0.7 1"/>
      </material>
    </visual>
    <collision>
      <origin xyz="0 0 0" rpy="0 0 0"/>
      <geometry>
        <mesh filename="meshes/left_hand_middle_0_link.obj"/>
      </geometry>
    </collision>
  </link>
  <joint name="left_hand_middle_1_joint" type="revolute">
    <origin xyz="0.0458 0 0" rpy="0 0 0"/>
    <axis xyz="0 0 1"/>
    <parent link="left_hand_middle_0_link"/>
    <child link="left_hand_middle_1_link"/>
    <limit effort="1.4" velocity="12" lower="-1.74532925" upper="0"/>
  </joint>
  <link name="left_hand_middle_1_link">
    <inertial>
      <origin xyz="0.02628192939 0.00171735242 -0.00010778879" rpy="0 0 0"/>
      <mass value="0.02030626"/>
      <inertia ixx="0.00000153561368" ixy="-0.00000003422130" ixz="-0.00000002549885" iyy="0.00000461267817" iyz="-0.00000000823881" izz="0.00000386625776"/>
    </inertial>
    <visual>
      <origin xyz="0 0 0" rpy="0 0 0"/>
      <geometry>
        <mesh filename="meshes/left_hand_middle_1_link.obj"/>
      </geometry>
      <material name="white">
        <color rgba="0.7 0.7 0.7 1"/>
      </material>
    </visual>
    <collision>
      <origin xyz="0 0 0" rpy="0 0 0"/>
      <geometry>
        <mesh filename="meshes/left_hand_middle_1_link.obj"/>
      </geometry>
    </collision>
  </link>
  <joint name="left_hand_index_0_joint" type="revolute">
    <origin xyz="0.0777 0.0016 0.0285" rpy="0 0 0"/>
    <axis xyz="0 0 1"/>
    <parent link="left_hand_palm_link"/>
    <child link="left_hand_index_0_link"/>
    <limit effort="1.4" velocity="12" lower="-1.57079632" upper="0"/>
  </joint>
  <link name="left_hand_index_0_link">
    <inertial>
      <origin xyz="0.03547435774 0.00082788768 0.00038089960" rpy="0 0 0"/>
      <mass value="0.05885070"/>
      <inertia ixx="0.00000601573947" ixy="-0.00000050770784" ixz="-0.00000027839003" iyy="0.00001274699945" iyz="0.00000016088850" izz="0.00001234543582"/>
    </inertial>
    <visual>
      <origin xyz="0 0 0" rpy="0 0 0"/>
      <geometry>
        <mesh filename="meshes/left_hand_index_0_link.obj"/>
      </geometry>
      <material name="white">
        <color rgba="0.7 0.7 0.7 1"/>
      </material>
    </visual>
    <collision>
      <origin xyz="0 0 0" rpy="0 0 0"/>
      <geometry>
        <mesh filename="meshes/left_hand_index_0_link.obj"/>
      </geometry>
    </collision>
  </link>
  <joint name="left_hand_index_1_joint" type="revolute">
    <origin xyz="0.0458 0 0" rpy="0 0 0"/>
    <axis xyz="0 0 1"/>
    <parent link="left_hand_index_0_link"/>
    <child link="left_hand_index_1_link"/>
    <limit effort="1.4" velocity="12" lower="-1.74532925" upper="0"/>
  </joint>
  <link name="left_hand_index_1_link">
    <inertial>
      <origin xyz="0.02628192939 0.00171735242 -0.00010778879" rpy="0 0 0"/>
      <mass value="0.02030626"/>
      <inertia ixx="0.00000153561368" ixy="-0.00000003422130" ixz="-0.00000002549885" iyy="0.00000461267817" iyz="-0.00000000823881" izz="0.00000386625776"/>
    </inertial>
    <visual>
      <origin xyz="0 0 0" rpy="0 0 0"/>
      <geometry>
        <mesh filename="meshes/left_hand_index_1_link.obj"/>
      </geometry>
      <material name="white">
        <color rgba="0.7 0.7 0.7 1"/>
      </material>
    </visual>
    <collision>
      <origin xyz="0 0 0" rpy="0 0 0"/>
      <geometry>
        <mesh filename="meshes/left_hand_index_1_link.obj"/>
      </geometry>
    </collision>
  </link>
  <!-- right hand -->
  <link name="right_hand_palm_link">
    <inertial>
      <origin xyz="0.06214634836 0.00050869656 -0.00058171093" rpy="0 0 0"/>
      <mass value="0.37283854"/>
      <inertia ixx="0.00027535181027" ixy="0.00001595519465" ixz="-0.00000242161890" iyy="0.00053951827219" iyz="0.00000042279435" izz="0.00039623390907"/>
    </inertial>
    <visual>
      <origin xyz="0 0 0" rpy="0 0 0"/>
      <geometry>
        <mesh filename="meshes/right_hand_palm_link.obj"/>
      </geometry>
      <material name="white">
        <color rgba="0.7 0.7 0.7 1"/>
      </material>
    </visual>
    <collision>
      <origin xyz="0 0 0" rpy="0 0 0"/>
      <geometry>
        <mesh filename="meshes/right_hand_palm_link.obj"/>
      </geometry>
    </collision>
  </link>
  <joint name="right_hand_thumb_0_joint" type="revolute">
    <origin xyz="0.0255 0 0" rpy="0 0 0"/>
    <axis xyz="0 1 0"/>
    <parent link="right_hand_palm_link"/>
    <child link="right_hand_thumb_0_link"/>
    <limit effort="2.45" velocity="6.857" lower="-1.04719755" upper="1.04719755"/>
  </joint>
  <link name="right_hand_thumb_0_link">
    <inertial>
      <origin xyz="-0.00088424580 0.00863407079 0.00094429336" rpy="0 0 0"/>
      <mass value="0.08623657"/>
      <inertia ixx="0.00001602919238" ixy="-0.00000010683177" ixz="0.00000016728875" iyy="0.00001451795012" iyz="0.00000051094752" izz="0.00001637877663"/>
    </inertial>
    <visual>
      <origin xyz="0 0 0" rpy="0 0 0"/>
      <geometry>
        <mesh filename="meshes/right_hand_thumb_0_link.obj"/>
      </geometry>
      <material name="white">
        <color rgba="0.7 0.7 0.7 1"/>
      </material>
    </visual>
    <collision>
      <origin xyz="0 0 0" rpy="0 0 0"/>
      <geometry>
        <mesh filename="meshes/right_hand_thumb_0_link.obj"/>
      </geometry>
    </collision>
  </link>
  <joint name="right_hand_thumb_1_joint" type="revolute">
    <origin xyz="-0.0025 0.0193 0" rpy="0 0 0"/>
    <axis xyz="0 0 1"/>
    <parent link="right_hand_thumb_0_link"/>
    <child link="right_hand_thumb_1_link"/>
    <limit effort="1.4" velocity="12" lower="-1.04719755" upper="0.72431163"/>
  </joint>
  <link name="right_hand_thumb_1_link">
    <inertial>
      <origin xyz="-0.00082788768 0.03547435774 -0.00038089960" rpy="0 0 0"/>
      <mass value="0.05885070"/>
      <inertia ixx="0.00001274699945" ixy="0.00000050770784" ixz="0.00000016088850" iyy="0.00000601573947" iyz="0.00000027839003" izz="0.00001234543582"/>
    </inertial>
    <visual>
      <origin xyz="0 0 0" rpy="0 0 0"/>
      <geometry>
        <mesh filename="meshes/right_hand_thumb_1_link.obj"/>
      </geometry>
      <material name="white">
        <color rgba="0.7 0.7 0.7 1"/>
      </material>
    </visual>
    <collision>
      <origin xyz="-0.001 0.032 0" rpy="0 0 0"/>
      <geometry>
        <box size="0.02 0.03 0.02"/>
      </geometry>
    </collision>
  </link>
  <joint name="right_hand_thumb_2_joint" type="revolute">
    <origin xyz="0 0.0458 0" rpy="0 0 0"/>
    <axis xyz="0 0 1"/>
    <parent link="right_hand_thumb_1_link"/>
    <child link="right_hand_thumb_2_link"/>
    <limit effort="1.4" velocity="12" lower="-1.74532925" upper="0"/>
  </joint>
  <link name="right_hand_thumb_2_link">
    <inertial>
      <origin xyz="-0.00171735242 0.02628192939 0.00010778879" rpy="0 0 0"/>
      <mass value="0.02030626"/>
      <inertia ixx="0.00000461267817" ixy="0.00000003422130" ixz="-0.00000000823881" iyy="0.00000153561368" iyz="0.00000002549885" izz="0.00000386625776"/>
    </inertial>
    <visual>
      <origin xyz="0 0 0" rpy="0 0 0"/>
      <geometry>
        <mesh filename="meshes/right_hand_thumb_2_link.obj"/>
      </geometry>
      <material name="white">
        <color rgba="0.7 0.7 0.7 1"/>
      </material>
    </visual>
    <collision>
      <origin xyz="0 0 0" rpy="0 0 0"/>
      <geometry>
        <mesh filename="meshes/right_hand_thumb_2_link.obj"/>
      </geometry>
    </collision>
  </link>
  <joint name="right_hand_middle_0_joint" type="revolute">
    <origin xyz="0.0777 -0.0016 -0.0285" rpy="0 0 0"/>
    <axis xyz="0 0 1"/>
    <parent link="right_hand_palm_link"/>
    <child link="right_hand_middle_0_link"/>
    <limit effort="1.4" velocity="12" lower="0" upper="1.57079632"/>
  </joint>
  <link name="right_hand_middle_0_link">
    <inertial>
      <origin xyz="0.03547435774 -0.00082788768 0.00038089960" rpy="0 0 0"/>
      <mass value="0.05885070"/>
      <inertia ixx="0.00000601573947" ixy="0.00000050770784" ixz="-0.00000027839003" iyy="0.00001274699945" iyz="-0.00000016088850" izz="0.00001234543582"/>
    </inertial>
    <visual>
      <origin xyz="0 0 0" rpy="0 0 0"/>
      <geometry>
        <mesh filename="meshes/right_hand_middle_0_link.obj"/>
      </geometry>
      <material name="white">
        <color rgba="0.7 0.7 0.7 1"/>
      </material>
    </visual>
    <collision>
      <origin xyz="0 0 0" rpy="0 0 0"/>
      <geometry>
        <mesh filename="meshes/right_hand_middle_0_link.obj"/>
      </geometry>
    </collision>
  </link>
  <joint name="right_hand_middle_1_joint" type="revolute">
    <origin xyz="0.0458 0 0" rpy="0 0 0"/>
    <axis xyz="0 0 1"/>
    <parent link="right_hand_middle_0_link"/>
    <child link="right_hand_middle_1_link"/>
    <limit effort="1.4" velocity="12" lower="0" upper="1.74532925"/>
  </joint>
  <link name="right_hand_middle_1_link">
    <inertial>
      <origin xyz="0.02628192939 -0.00171735242 -0.00010778879" rpy="0 0 0"/>
      <mass value="0.02030626"/>
      <inertia ixx="0.00000153561368" ixy="0.00000003422130" ixz="-0.00000002549885" iyy="0.00000461267817" iyz="0.00000000823881" izz="0.00000386625776"/>
    </inertial>
    <visual>
      <origin xyz="0 0 0" rpy="0 0 0"/>
      <geometry>
        <mesh filename="meshes/right_hand_middle_1_link.obj"/>
      </geometry>
      <material name="white">
        <color rgba="0.7 0.7 0.7 1"/>
      </material>
    </visual>
    <collision>
      <origin xyz="0 0 0" rpy="0 0 0"/>
      <geometry>
        <mesh filename="meshes/right_hand_middle_1_link.obj"/>
      </geometry>
    </collision>
  </link>
  <joint name="right_hand_index_0_joint" type="revolute">
    <origin xyz="0.0777 -0.0016 0.0285" rpy="0 0 0"/>
    <axis xyz="0 0 1"/>
    <parent link="right_hand_palm_link"/>
    <child link="right_hand_index_0_link"/>
    <limit effort="1.4" velocity="12" lower="0" upper="1.57079632"/>
  </joint>
  <link name="right_hand_index_0_link">
    <inertial>
      <origin xyz="0.03547435774 -0.00082788768 0.00038089960" rpy="0 0 0"/>
      <mass value="0.05885070"/>
      <inertia ixx="0.00000601573947" ixy="0.00000050770784" ixz="-0.00000027839003" iyy="0.00001274699945" iyz="-0.00000016088850" izz="0.00001234543582"/>
    </inertial>
    <visual>
      <origin xyz="0 0 0" rpy="0 0 0"/>
      <geometry>
        <mesh filename="meshes/right_hand_index_0_link.obj"/>
      </geometry>
      <material name="white">
        <color rgba="0.7 0.7 0.7 1"/>
      </material>
    </visual>
    <collision>
      <origin xyz="0 0 0" rpy="0 0 0"/>
      <geometry>
        <mesh filename="meshes/right_hand_index_0_link.obj"/>
      </geometry>
    </collision>
  </link>
  <joint name="right_hand_index_1_joint" type="revolute">
    <origin xyz="0.0458 0 0" rpy="0 0 0"/>
    <axis xyz="0 0 1"/>
    <parent link="right_hand_index_0_link"/>
    <child link="right_hand_index_1_link"/>
    <limit effort="1.4" velocity="12" lower="0" upper="1.74532925"/>
  </joint>
  <link name="right_hand_index_1_link">
    <inertial>
      <origin xyz="0.02628192939 -0.00171735242 -0.00010778879" rpy="0 0 0"/>
      <mass value="0.02030626"/>
      <inertia ixx="0.00000153561368" ixy="0.00000003422130" ixz="-0.00000002549885" iyy="0.00000461267817" iyz="0.00000000823881" izz="0.00000386625776"/>
    </inertial>
    <visual>
      <origin xyz="0 0 0" rpy="0 0 0"/>
      <geometry>
        <mesh filename="meshes/right_hand_index_1_link.obj"/>
      </geometry>
      <material name="white">
        <color rgba="0.7 0.7 0.7 1"/>
      </material>
    </visual>
    <collision>
      <origin xyz="0 0 0" rpy="0 0 0"/>
      <geometry>
        <mesh filename="meshes/right_hand_index_1_link.obj"/>
      </geometry>
    </collision>
  </link>

<!-- Torso -->
<transmission type="SimpleTransmission" name="waist_yaw_joint_trans">
  <actuator name="waist_yaw_joint"/>
  <joint name="waist_yaw_joint"/>
</transmission>
<transmission type="SimpleTransmission" name="waist_roll_joint_trans">
  <actuator name="waist_roll_joint"/>
  <joint name="waist_roll_joint"/>
</transmission>
<transmission type="SimpleTransmission" name="waist_pitch_joint_trans">
  <actuator name="waist_pitch_joint"/>
  <joint name="waist_pitch_joint"/>
</transmission>

<!-- left arm -->
<transmission type="SimpleTransmission" name="left_shoulder_pitch_joint">
  <actuator name="left_shoulder_pitch_joint"/>
  <joint name="left_shoulder_pitch_joint"/>
</transmission>
<transmission type="SimpleTransmission" name="left_shoulder_roll_joint_trans">
  <actuator name="left_shoulder_roll_joint"/>
  <joint name="left_shoulder_roll_joint"/>
</transmission>
<transmission type="SimpleTransmission" name="left_shoulder_yaw_joint_trans">
  <actuator name="left_shoulder_yaw_joint"/>
  <joint name="left_shoulder_yaw_joint"/>
</transmission>
<transmission type="SimpleTransmission" name="left_elbow_joint_trans">
  <actuator name="left_elbow_joint"/>
  <joint name="left_elbow_joint"/>
</transmission>
<transmission type="SimpleTransmission" name="left_wrist_roll_joint_trans">
  <actuator name="left_wrist_roll_joint"/>
  <joint name="left_wrist_roll_joint"/>
</transmission>
<transmission type="SimpleTransmission" name="left_wrist_pitch_joint_trans">
  <actuator name="left_wrist_pitch_joint"/>
  <joint name="left_wrist_pitch_joint"/>
</transmission>
<transmission type="SimpleTransmission" name="left_wrist_yaw_joint_trans">
  <actuator name="left_wrist_yaw_joint"/>
  <joint name="left_wrist_yaw_joint"/>
</transmission>

<!-- right arm -->
<transmission type="SimpleTransmission" name="right_shoulder_pitch_joint_trans">
  <actuator name="right_shoulder_pitch_joint"/>
  <joint name="right_shoulder_pitch_joint"/>
</transmission>
<transmission type="SimpleTransmission" name="right_shoulder_roll_joint_trans">
  <actuator name="right_shoulder_roll_joint"/>
  <joint name="right_shoulder_roll_joint"/>
</transmission>
<transmission type="SimpleTransmission" name="right_shoulder_yaw_joint_trans">
  <actuator name="right_shoulder_yaw_joint"/>
  <joint name="right_shoulder_yaw_joint"/>
</transmission>
<transmission type="SimpleTransmission" name="right_elbow_joint_trans">
  <actuator name="right_elbow_joint"/>
  <joint name="right_elbow_joint"/>
</transmission>
<transmission type="SimpleTransmission" name="right_wrist_roll_joint_trans">
  <actuator name="right_wrist_roll_joint"/>
  <joint name="right_wrist_roll_joint"/>
</transmission>
<transmission type="SimpleTransmission" name="right_wrist_pitch_joint_trans">
  <actuator name="right_wrist_pitch_joint"/>
  <joint name="right_wrist_pitch_joint"/>
</transmission>
<transmission type="SimpleTransmission" name="right_wrist_yaw_joint_trans">
  <actuator name="right_wrist_yaw_joint"/>
  <joint name="right_wrist_yaw_joint"/>
</transmission>

<!-- left hand -->
<transmission type="SimpleTransmission" name="left_hand_thumb_0_joint_trans">
  <actuator name="left_hand_thumb_0_joint"/>
  <joint name="left_hand_thumb_0_joint"/>
</transmission>
<transmission type="SimpleTransmission" name="left_hand_thumb_1_joint_trans">
  <actuator name="left_hand_thumb_1_joint"/>
  <joint name="left_hand_thumb_1_joint"/>
</transmission>
<transmission type="SimpleTransmission" name="left_hand_thumb_2_joint_trans">
  <actuator name="left_hand_thumb_2_joint"/>
  <joint name="left_hand_thumb_2_joint"/>
</transmission>
<transmission type="SimpleTransmission" name="left_hand_middle_0_joint_trans">
  <actuator name="left_hand_middle_0_joint"/>
  <joint name="left_hand_middle_0_joint"/>
</transmission>
<transmission type="SimpleTransmission" name="left_hand_middle_1_joint_trans">
  <actuator name="left_hand_middle_1_joint"/>
  <joint name="left_hand_middle_1_joint"/>
</transmission>
<transmission type="SimpleTransmission" name="left_hand_index_0_joint_trans">
  <actuator name="left_hand_index_0_joint"/>
  <joint name="left_hand_index_0_joint"/>
</transmission>
<transmission type="SimpleTransmission" name="left_hand_index_1_joint_trans">
  <actuator name="left_hand_index_1_joint"/>
  <joint name="left_hand_index_1_joint"/>
</transmission>

<!-- right hand -->
<transmission type="SimpleTransmission" name="right_hand_thumb_0_joint_trans">
  <actuator name="right_hand_thumb_0_joint"/>
  <joint name="right_hand_thumb_0_joint"/>
</transmission>
<transmission type="SimpleTransmission" name="right_hand_thumb_1_joint_trans">
  <actuator name="right_hand_thumb_1_joint"/>
  <joint name="right_hand_thumb_1_joint"/>
</transmission>
<transmission type="SimpleTransmission" name="right_hand_thumb_2_joint_trans">
  <actuator name="right_hand_thumb_2_joint"/>
  <joint name="right_hand_thumb_2_joint"/>
</transmission>
<transmission type="SimpleTransmission" name="right_hand_middle_0_joint_trans">
  <actuator name="right_hand_middle_0_joint"/>
  <joint name="right_hand_middle_0_joint"/>
</transmission>
<transmission type="SimpleTransmission" name="right_hand_middle_1_joint_trans">
  <actuator name="right_hand_middle_1_joint"/>
  <joint name="right_hand_middle_1_joint"/>
</transmission>
<transmission type="SimpleTransmission" name="right_hand_index_0_joint_trans">
  <actuator name="right_hand_index_0_joint"/>
  <joint name="right_hand_index_0_joint"/>
</transmission>
<transmission type="SimpleTransmission" name="right_hand_index_1_joint_trans">
  <actuator name="right_hand_index_1_joint"/>
  <joint name="right_hand_index_1_joint"/>
</transmission>
</robot>
